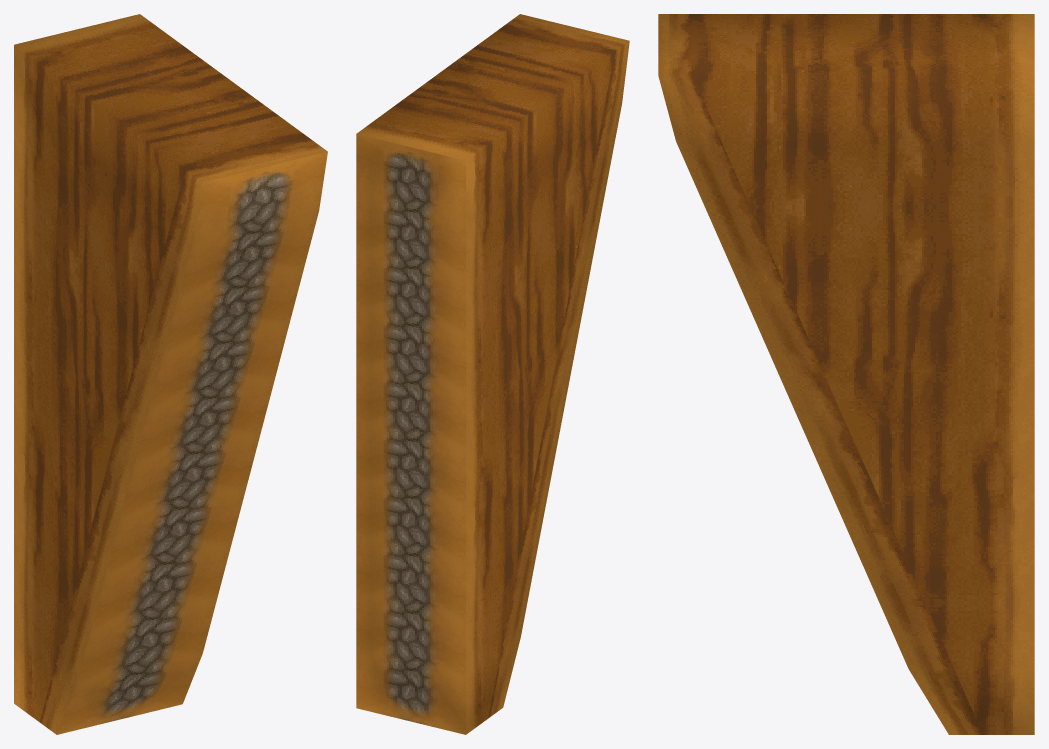
File: SM_AP_CanyonWall_Ramp_1.glb
3 views of the same model, side by side, from view 1: azimuth 30°, elevation 25°; view 2: azimuth 150°, elevation 25°; view 3: azimuth 270°, elevation 25° (orthographic). The views are drawn at different scales.
Visible parts, largest first — view 1: SM_AP_CanyonWall_Ramp_1; view 2: SM_AP_CanyonWall_Ramp_1; view 3: SM_AP_CanyonWall_Ramp_1.
Part boxes in pixels (x1,y1,x2,y2): SM_AP_CanyonWall_Ramp_1: (14, 14, 327, 734); SM_AP_CanyonWall_Ramp_1: (356, 14, 629, 734); SM_AP_CanyonWall_Ramp_1: (658, 14, 1034, 734).
Bounding box in the file's own units: 8 × 40 × 20.69.
Materials: 1 (1 with a texture image).
